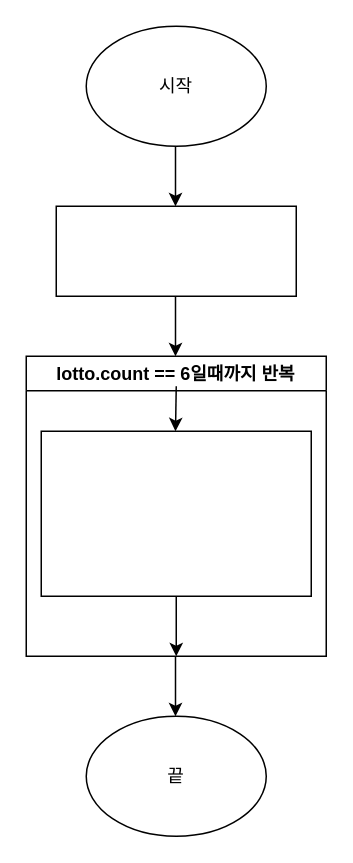
The diagram is 353 pixels wide and 863 high, and some of its shapes have lost their labels. Here are the shapes that lost their labels. From the top down, the box of each, then its label:
(55, 205, 296, 296): 숫자를 넣을 빈 세트 'lotto'생성 랜덤 숫자를 담을 변수 'randomNumber'선언
(40, 430, 311, 596): 'randomNumber'에 랜덤 숫자 넣기 'randomNumber'를 'lotto'에 넣음
